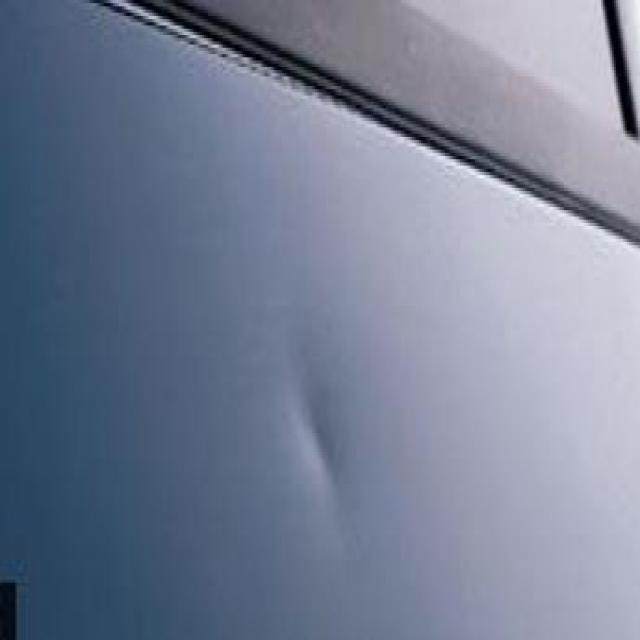dent: (276, 342, 364, 521)
